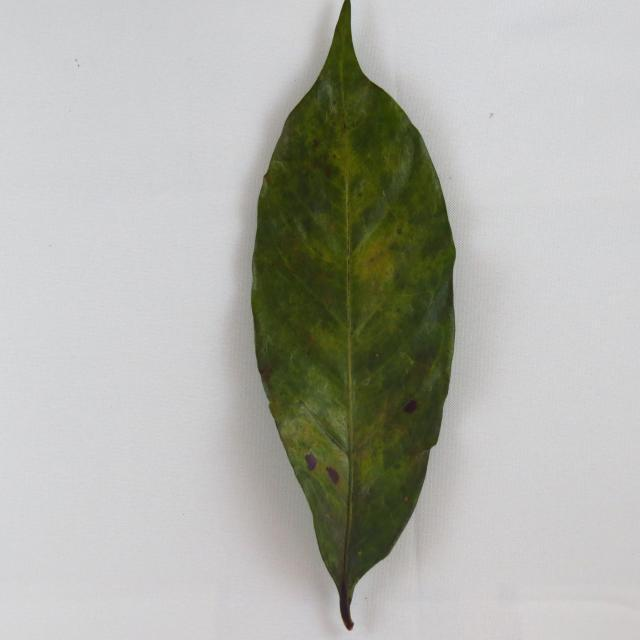DeficienciaNutricional-Potasio: (251, 2, 455, 630)
